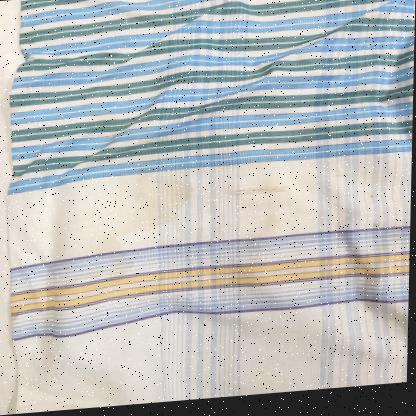spot: (14, 46, 205, 332), (144, 169, 181, 229), (255, 214, 289, 246), (377, 244, 389, 257), (365, 197, 379, 206), (370, 225, 380, 236)
